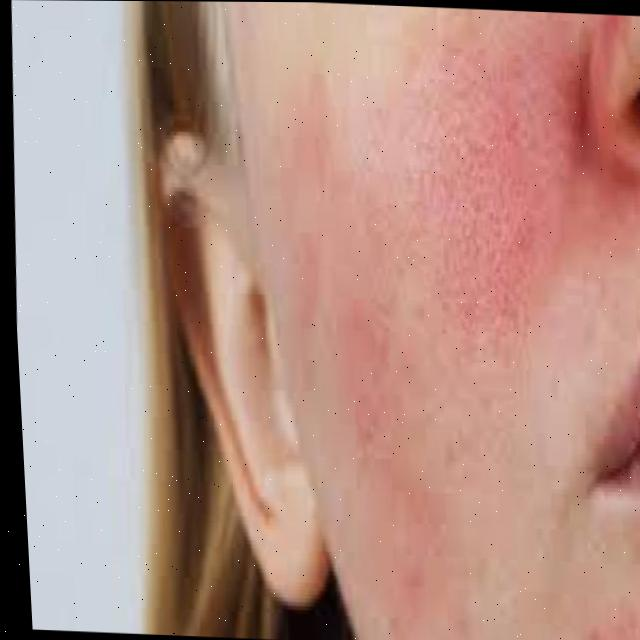Rosacea: (343, 4, 610, 383)
